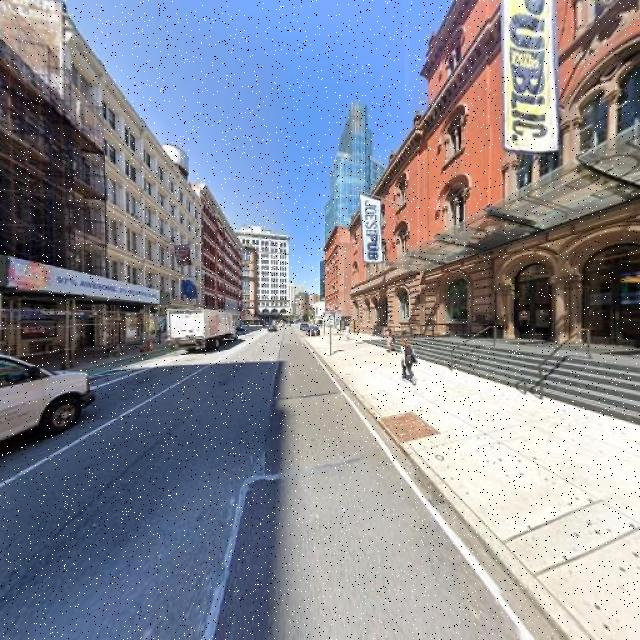Building: (352, 1, 640, 374), (69, 23, 204, 350), (1, 49, 62, 360), (207, 187, 242, 330), (327, 230, 336, 327)
